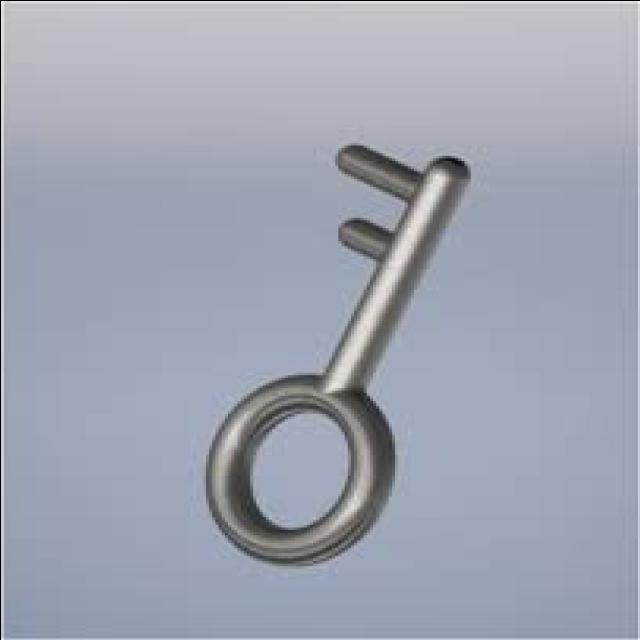key: (71, 108, 498, 600)
